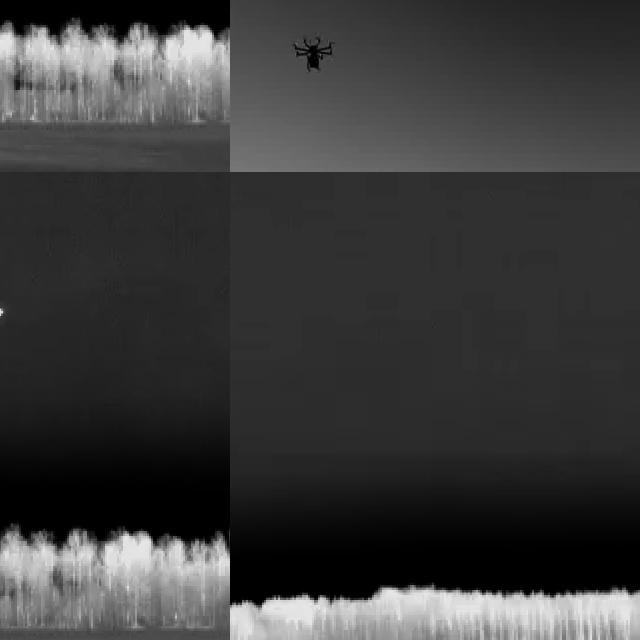1: (0, 300, 14, 330)
drone: (289, 23, 336, 80)
